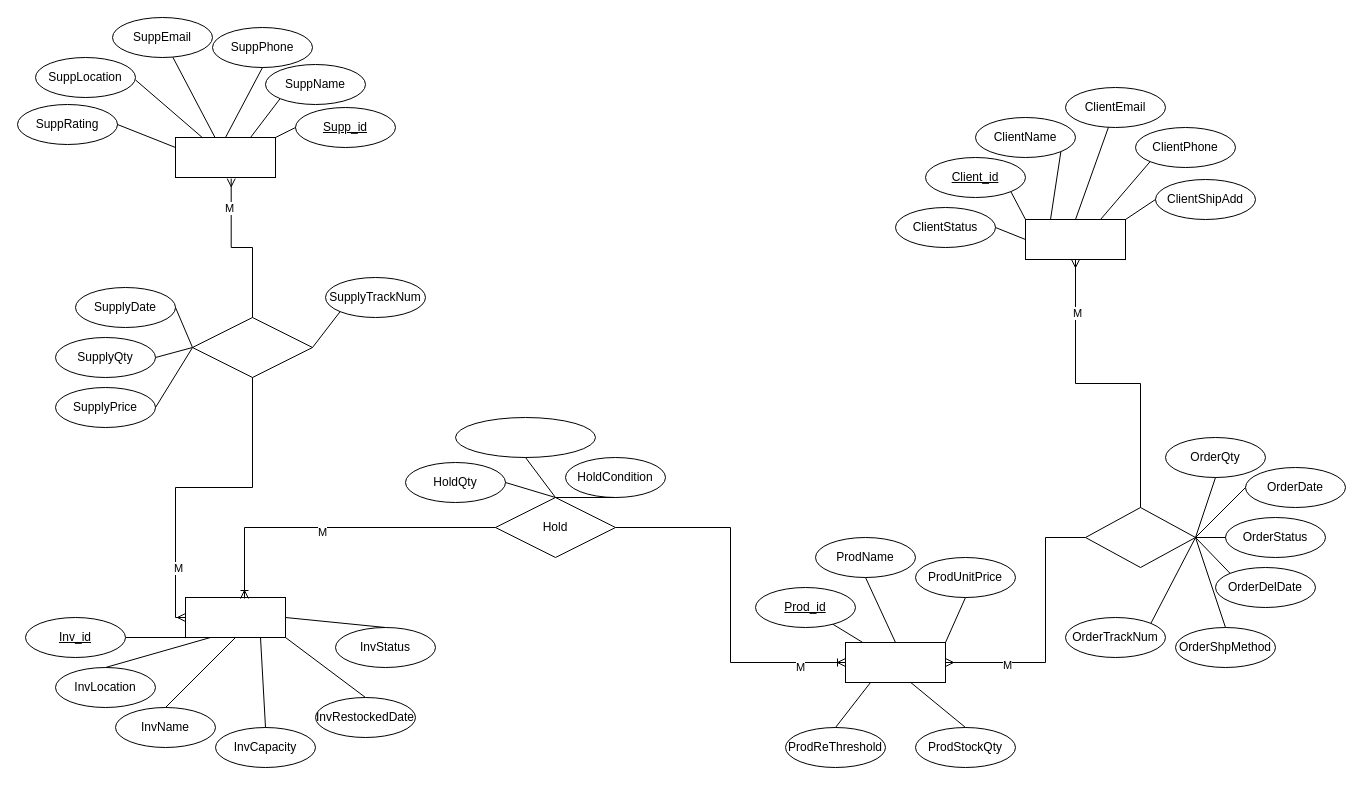
The diagram is 1363 pixels wide and 785 high, and some of its shapes have lost their labels. The shapes that lost their labels are listed below. From the top down, each one's centre as x and y in pixels, then its label:
pixel 225 157: SUPPLIER
pixel 1075 239: CLIENT
pixel 252 347: Supplies
pixel 525 437: HoldLastStockedDate
pixel 1140 537: Order
pixel 235 617: INVENTORY
pixel 895 662: PRODUCT
